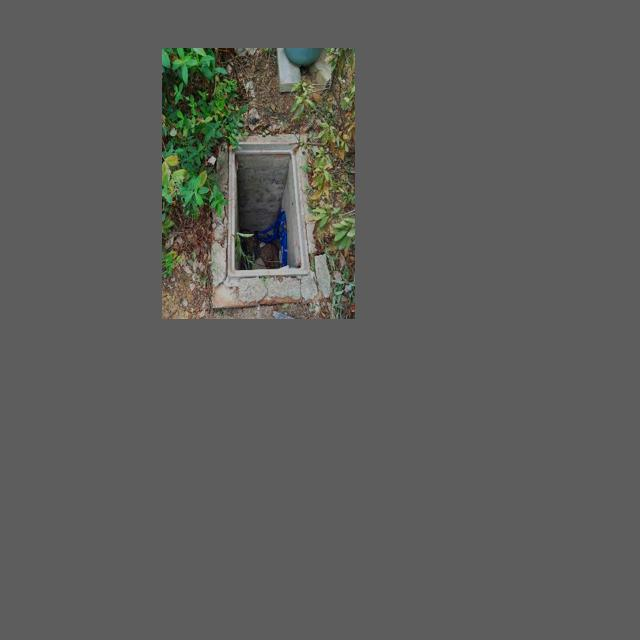lose: (226, 141, 309, 276)
